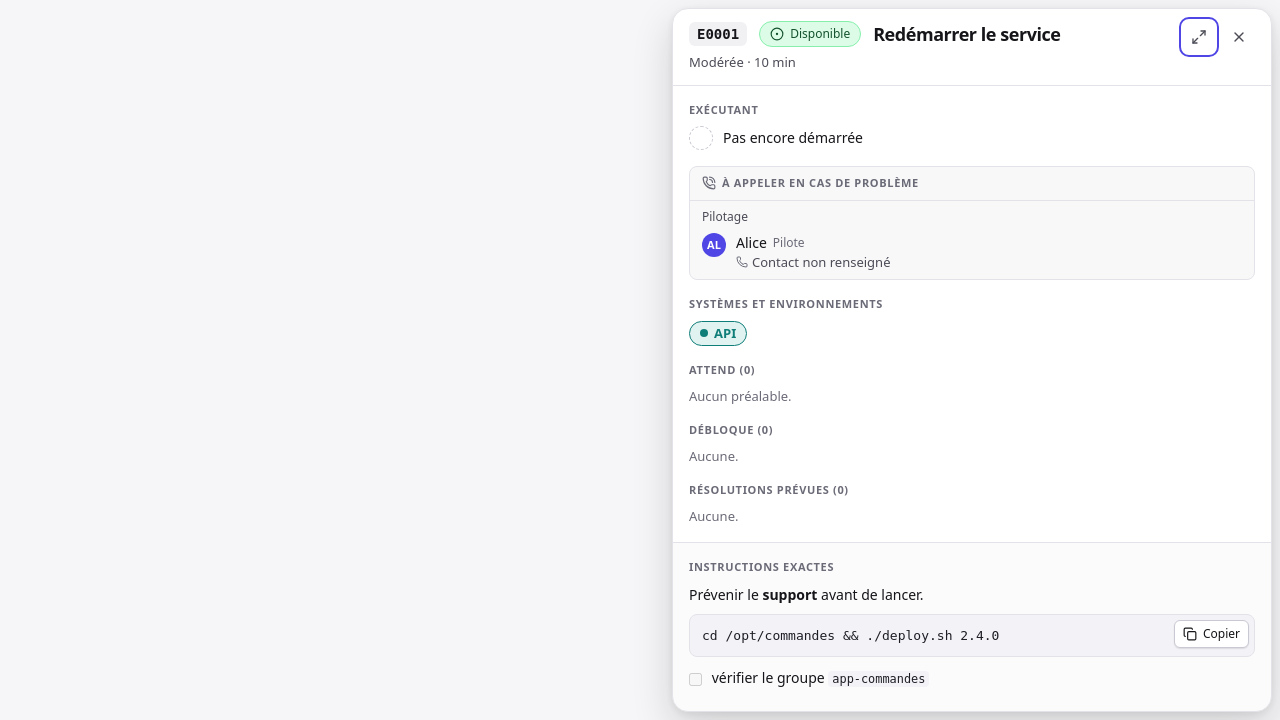
EtapePanneau : instructions en blocs (markdown + Copier) › Copier met la commande exacte dans le presse-papiers
Click the button with aria-label "Copier la commande 1" at (1212, 634), box [1174,620,1249,648]
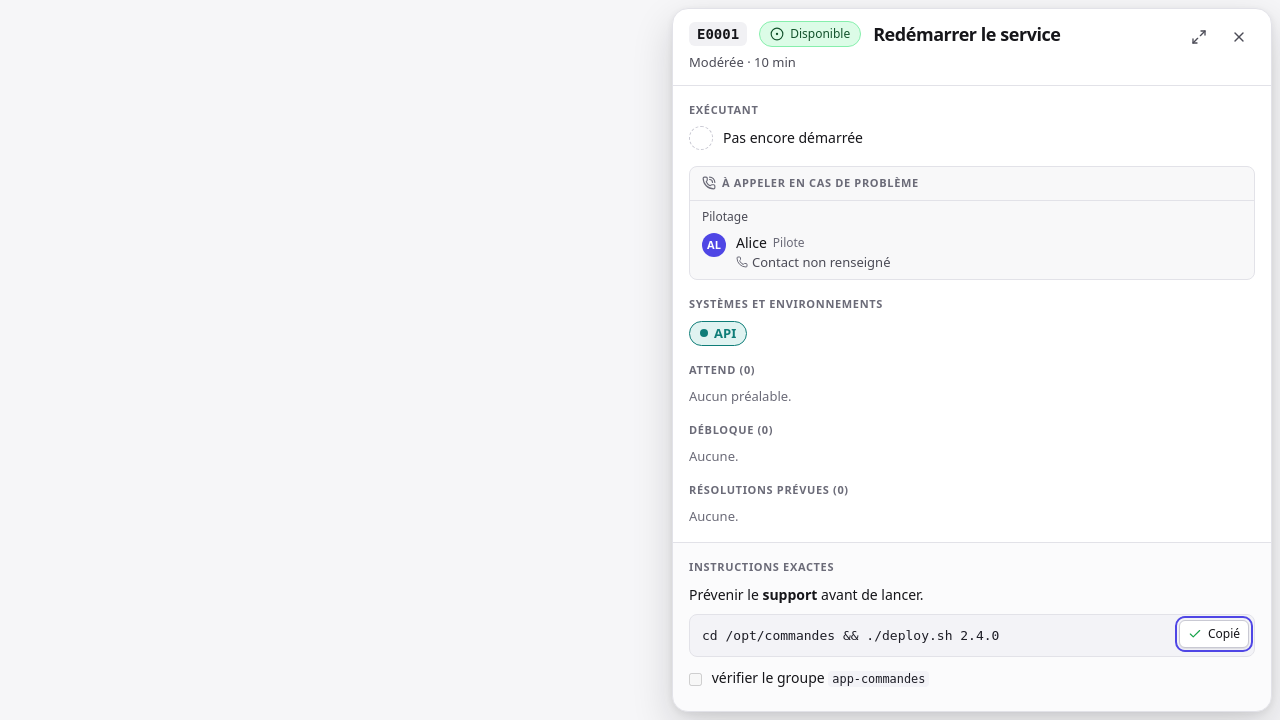
Check: the button "Copié" is shown, box [1179,620,1249,648]
